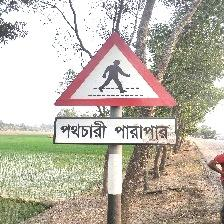Pedestrian-crossing: (52, 30, 179, 147)
